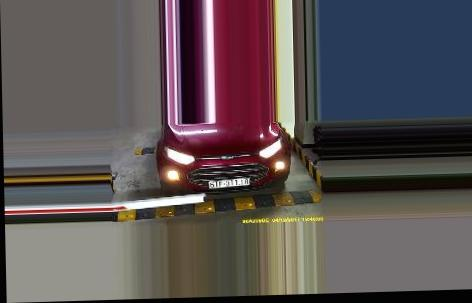License_Plate: (206, 174, 251, 188)
